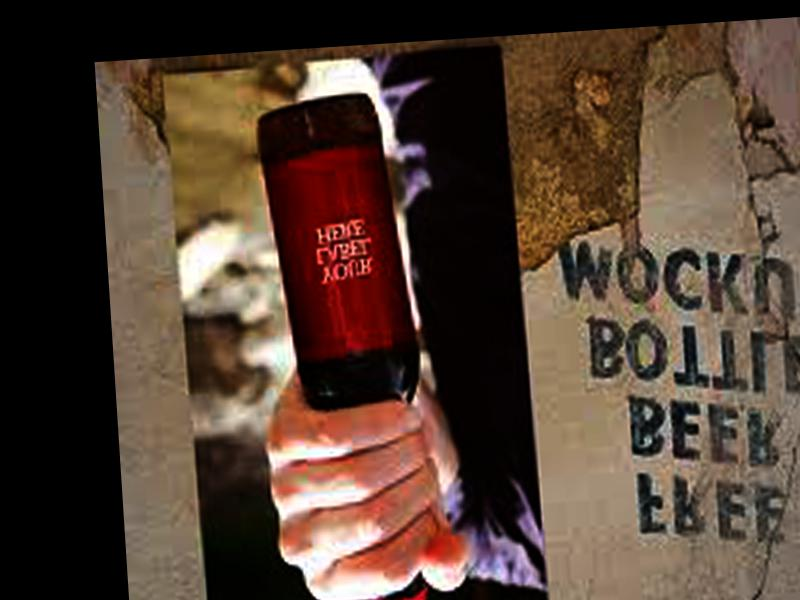Beer: (254, 91, 430, 600)
